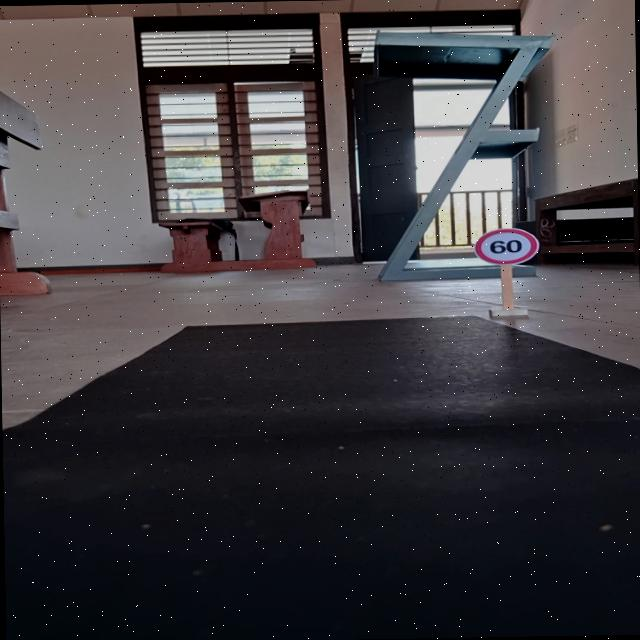Speed60: (470, 226, 540, 266)
